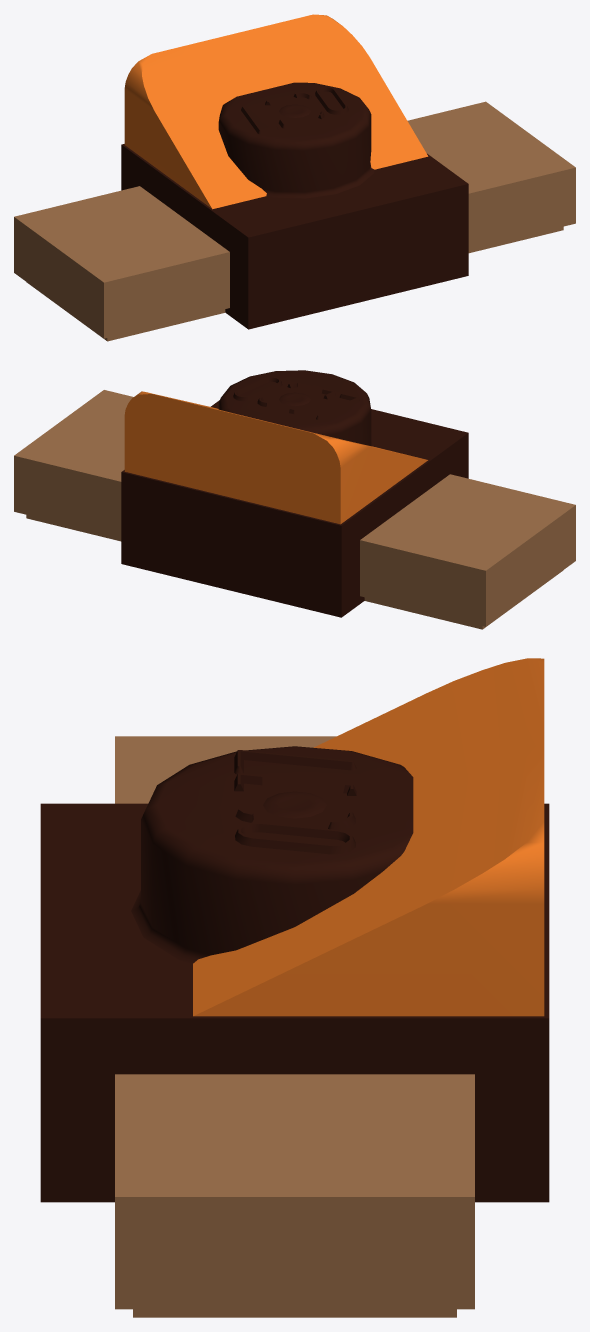
File: gravel_bits.glb
3 renders of one model, top to bottom at view 1: azimuth 30°, elevation 25°; view 2: azimuth 150°, elevation 25°; view 3: azimuth 270°, elevation 25°, orthographic. The views are drawn at different scales.
Parts seen in each view (by area): view 1: grav_round, grav_duo, grav_dome; view 2: grav_round, grav_duo, grav_dome; view 3: grav_round, grav_duo, grav_dome.
Boxes of the visible parts, bbox=[...] form: grav_round: bbox=[121, 82, 468, 329]; grav_duo: bbox=[14, 101, 575, 341]; grav_dome: bbox=[124, 14, 428, 209]; grav_round: bbox=[121, 370, 468, 617]; grav_duo: bbox=[14, 390, 575, 629]; grav_dome: bbox=[124, 391, 427, 524]; grav_round: bbox=[40, 746, 549, 1202]; grav_duo: bbox=[115, 736, 474, 1317]; grav_dome: bbox=[193, 658, 544, 1016].
Bounding box in the file's own units: 0.7568 × 0.2703 × 0.3531.
